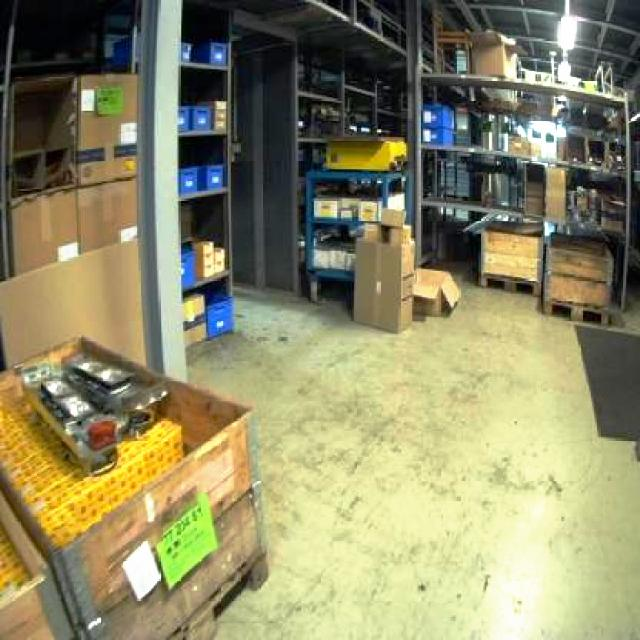ground: (0, 255, 638, 638)
pallet: (0, 332, 269, 638), (417, 68, 635, 318), (475, 218, 615, 325), (351, 206, 415, 332), (542, 232, 614, 325), (477, 220, 543, 295), (411, 266, 460, 317)
